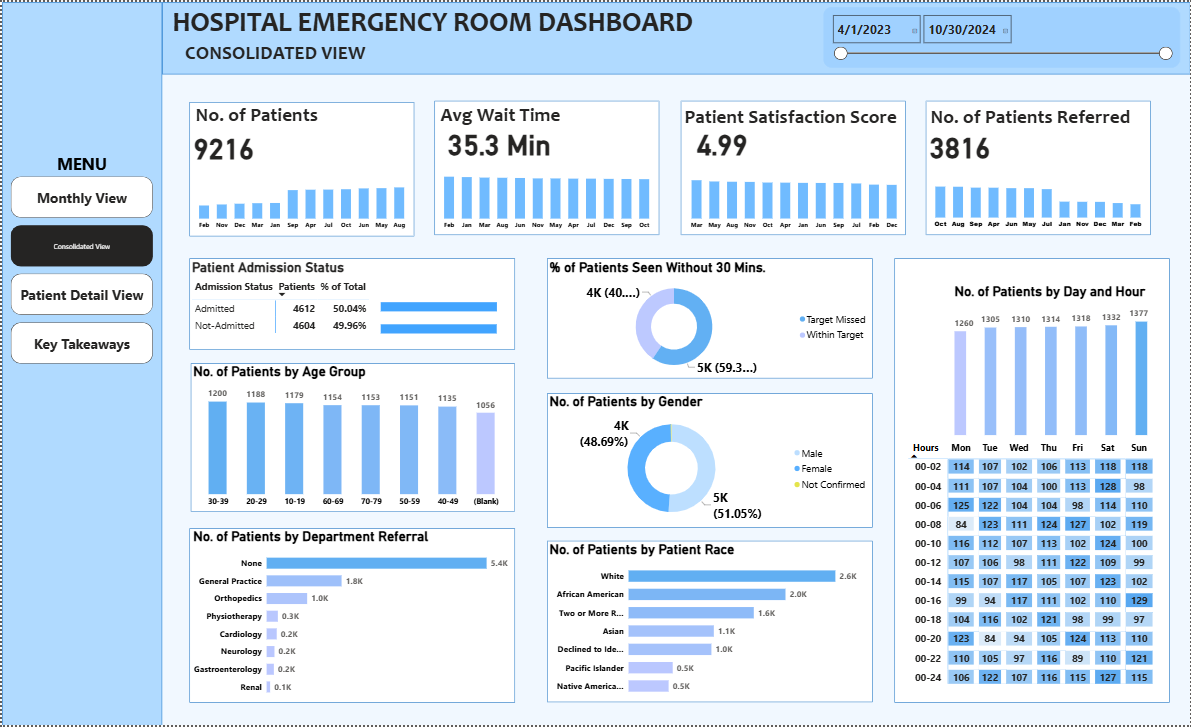

This screenshot's page, from the dashboard's own definition file:
{"tool":"powerbi","page":{"name":"Consolidated View","canvas":[2300,1400],"ordinal":1},"visuals":[{"type":"shape","box":[0,0,310,1400],"z":0},{"type":"shape","box":[310,0,1990,140],"z":1000},{"type":"textbox","box":[310,0,1046.7,93.3],"z":2000},{"type":"textbox","box":[332.5,70,395,67.5],"z":3000},{"type":"shape","box":[362.5,192.5,435,260],"z":4000},{"type":"card","fields":{"Values":["Hospital ER_Data.No. of Patients"]},"box":[362.5,237.5,132.5,82.5],"z":5000},{"type":"shape","box":[1312.5,190,435,260],"z":6000},{"type":"shape","box":[837.5,190,435,260],"z":7000},{"type":"shape","box":[1787.5,190,435,260],"z":8000},{"type":"textbox","box":[832.5,190,265,67.5],"z":9000},{"type":"textbox","box":[362.5,190,260,67.5],"z":10000},{"type":"textbox","box":[1315,192.5,432.5,65],"z":11000},{"type":"textbox","box":[1787.5,192.5,405,67.5],"z":12000},{"type":"columnChart","fields":{"Y":["Hospital ER_Data.No. of Patients"],"Category":["Date Table.Month"]},"box":[362.5,317.5,435,132.5],"z":13000},{"type":"slicer","fields":{"Values":["Date Table.Date"]},"box":[1590,10,690,117.5],"z":14000},{"type":"card","fields":{"Values":["Hospital ER_Data.Avg. Wait Time"]},"box":[832.5,217.5,260,105],"z":15000},{"type":"columnChart","fields":{"Y":["Avg(Hospital ER_Data.Patient Waittime)"],"Category":["Date Table.Month"]},"box":[837.5,317.5,435,132.5],"z":16000},{"type":"card","fields":{"Values":["Avg(Hospital ER_Data.Patient Satisfaction Score)"]},"box":[1315,217.5,155,105],"z":17000},{"type":"columnChart","fields":{"Y":["Avg(Hospital ER_Data.Patient Satisfaction Score)"],"Category":["Date Table.Month"]},"box":[1315,322.5,435,127.5],"z":18000},{"type":"columnChart","fields":{"Y":["Hospital ER_Data.No of patient referred"],"Category":["Date Table.Month"]},"box":[1787.5,317.5,435,132.5],"z":19000},{"type":"card","fields":{"Values":["Hospital ER_Data.No of patient referred"]},"box":[1787.5,235,132.5,82.5],"z":20000},{"type":"shape","box":[362.5,495,630,177],"z":21000},{"type":"pivotTable","title":"Patient Admission Status","fields":{"Rows":["Hospital ER_Data.Admission Status"],"Values":["Hospital ER_Data.No. of Patients1","Hospital ER_Data.No. of Patients"]},"box":[362.5,497.5,630,170],"z":22000},{"type":"barChart","fields":{"Category":["Hospital ER_Data.Admission Status"],"Y":["Hospital ER_Data.No. of Patients"]},"box":[727.5,547.5,302.5,125],"z":23000},{"type":"shape","box":[365,700,627.5,287.5],"z":24000},{"type":"shape","box":[362.5,1017.5,630,337.5],"z":25000},{"type":"shape","box":[1055,495,630,232.5],"z":26000},{"type":"shape","box":[1055,757.5,630,260],"z":27000},{"type":"shape","box":[1055,1042.5,630,312.5],"z":28000},{"type":"shape","box":[1727.5,495,532.5,860],"z":29000},{"type":"clusteredColumnChart","fields":{"Category":["Hospital ER_Data.Age Group"],"Y":["Hospital ER_Data.No. of Patients"]},"box":[365,700,625,287.5],"z":30000},{"type":"clusteredBarChart","fields":{"Category":["Hospital ER_Data.Department Referral"],"Y":["Hospital ER_Data.No. of Patients"]},"box":[365,1017.5,625,337.5],"z":31000},{"type":"donutChart","title":"% of Patients Seen Without 30 Mins.","fields":{"Category":["Hospital ER_Data.Waittime Status"],"Y":["Hospital ER_Data.No. of Patients"]},"box":[1055,497.5,630,230],"z":32000},{"type":"donutChart","title":"No. of Patients by Gender","fields":{"Y":["Hospital ER_Data.No. of Patients"],"Category":["Hospital ER_Data.Patient Gender"]},"box":[1055,757.5,630,260],"z":33000},{"type":"clusteredBarChart","fields":{"Y":["Hospital ER_Data.No. of Patients"],"Category":["Hospital ER_Data.Patient Race"]},"box":[1055,1042.5,630,312.5],"z":34000},{"type":"pivotTable","fields":{"Rows":["Hospital ER_Data.Admissin Interval"],"Columns":["Date Table.Day Name"],"Values":["Hospital ER_Data.No. of Patients"]},"box":[1750,845,510,510],"z":35000},{"type":"columnChart","title":"No. of Patients by Day  and Hour","fields":{"Category":["Date Table.Day Name"],"Y":["Hospital ER_Data.No. of Patients"]},"box":[1837.5,545,385,300],"z":36000},{"type":"pageNavigator","title":"MENU","box":[17.5,290,275,410],"z":37000}]}

Visuals, with their boxes in screenshot pixels (x1, y1, x2, y2), scaled from the page's 2300x1400 canvas onto the 1191x727 screenshot:
shape: detection(0, 0, 161, 726)
shape: detection(161, 0, 1190, 73)
textbox: detection(161, 0, 703, 48)
textbox: detection(172, 36, 377, 71)
shape: detection(188, 100, 413, 235)
card - Hospital ER_Data.No. of Patients: detection(188, 123, 256, 166)
shape: detection(680, 99, 905, 234)
shape: detection(434, 99, 659, 234)
shape: detection(926, 99, 1151, 234)
textbox: detection(431, 99, 568, 134)
textbox: detection(188, 99, 322, 134)
textbox: detection(681, 100, 905, 134)
textbox: detection(926, 100, 1135, 135)
columnChart - Hospital ER_Data.No. of Patients x Date Table.Month: detection(188, 165, 413, 234)
slicer - Date Table.Date: detection(823, 5, 1181, 66)
card - Hospital ER_Data.Avg. Wait Time: detection(431, 113, 566, 167)
columnChart - Avg(Hospital ER_Data.Patient Waittime) x Date Table.Month: detection(434, 165, 659, 234)
card - Avg(Hospital ER_Data.Patient Satisfaction Score): detection(681, 113, 761, 167)
columnChart - Avg(Hospital ER_Data.Patient Satisfaction Score) x Date Table.Month: detection(681, 167, 906, 234)
columnChart - Hospital ER_Data.No of patient referred x Date Table.Month: detection(926, 165, 1151, 234)
card - Hospital ER_Data.No of patient referred: detection(926, 122, 994, 165)
shape: detection(188, 257, 514, 349)
"Patient Admission Status" pivotTable: detection(188, 258, 514, 347)
barChart - Hospital ER_Data.Admission Status x Hospital ER_Data.No. of Patients: detection(377, 284, 533, 349)
shape: detection(189, 363, 514, 513)
shape: detection(188, 528, 514, 704)
shape: detection(546, 257, 873, 378)
shape: detection(546, 393, 873, 528)
shape: detection(546, 541, 873, 704)
shape: detection(895, 257, 1170, 704)
clusteredColumnChart - Hospital ER_Data.Age Group x Hospital ER_Data.No. of Patients: detection(189, 363, 513, 513)
clusteredBarChart - Hospital ER_Data.Department Referral x Hospital ER_Data.No. of Patients: detection(189, 528, 513, 704)
"% of Patients Seen Without 30 Mins." donutChart: detection(546, 258, 873, 378)
"No. of Patients by Gender" donutChart: detection(546, 393, 873, 528)
clusteredBarChart - Hospital ER_Data.No. of Patients x Hospital ER_Data.Patient Race: detection(546, 541, 873, 704)
pivotTable - Hospital ER_Data.Admissin Interval x Date Table.Day Name: detection(906, 439, 1170, 704)
"No. of Patients by Day  and Hour" columnChart: detection(952, 283, 1151, 439)
"MENU" pageNavigator: detection(9, 151, 151, 363)
